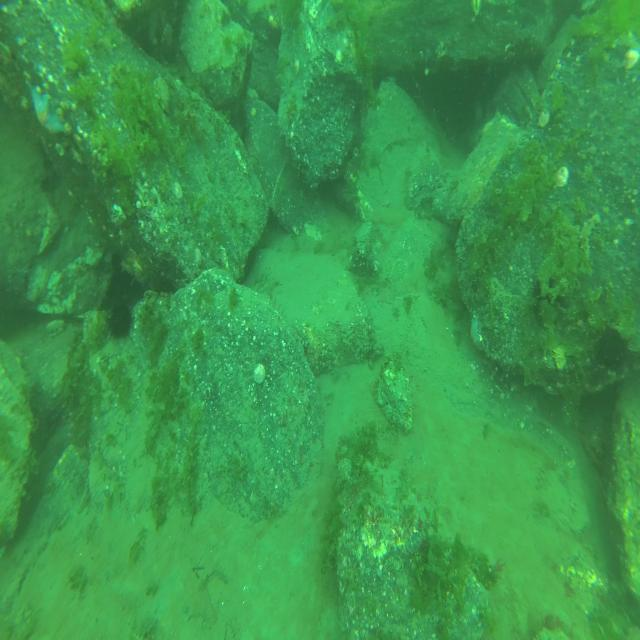echinus: (593, 320, 630, 373), (108, 302, 136, 343)
starfish: (23, 76, 67, 137), (469, 313, 487, 356)
